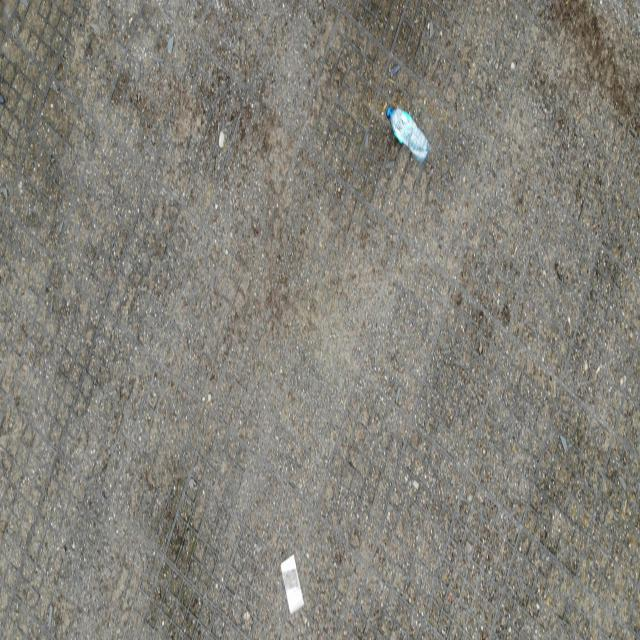rubbish: (386, 108, 431, 164), (280, 555, 304, 615)
